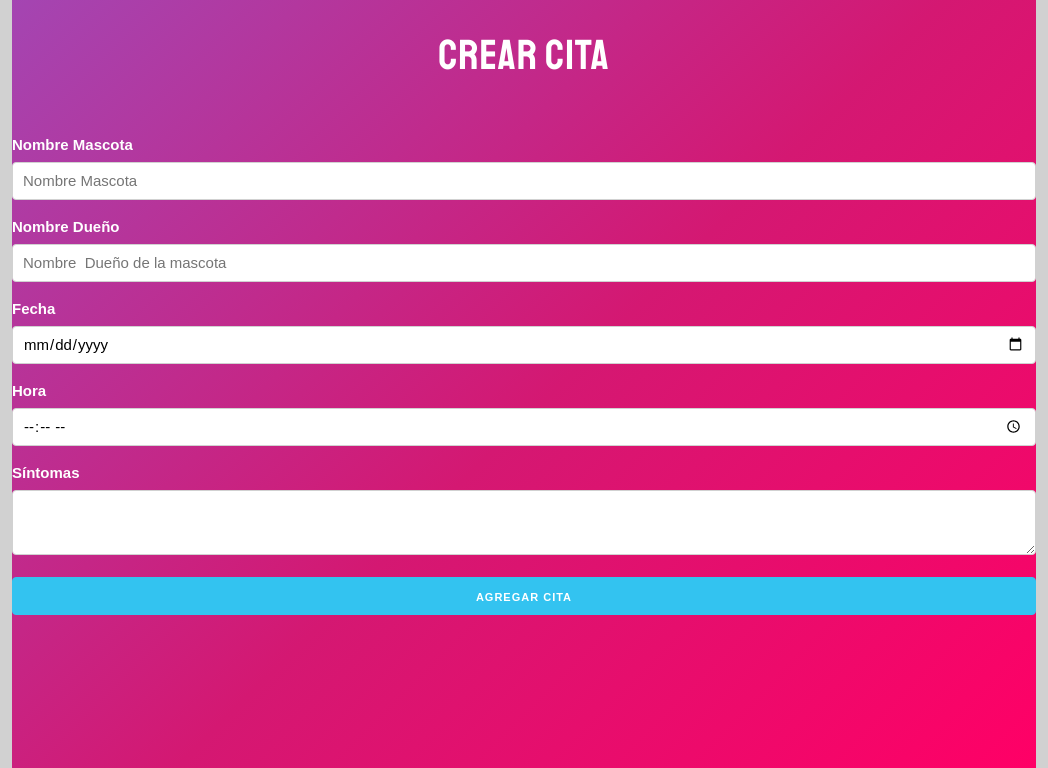
Test: <Formulario /> Pruebas con funciones y validaciones de formulario
The image size is (1048, 768).
# Simulo el clic
Click the button with test id "btn-submit".
click(524, 596)  # box [12,576,1036,614]
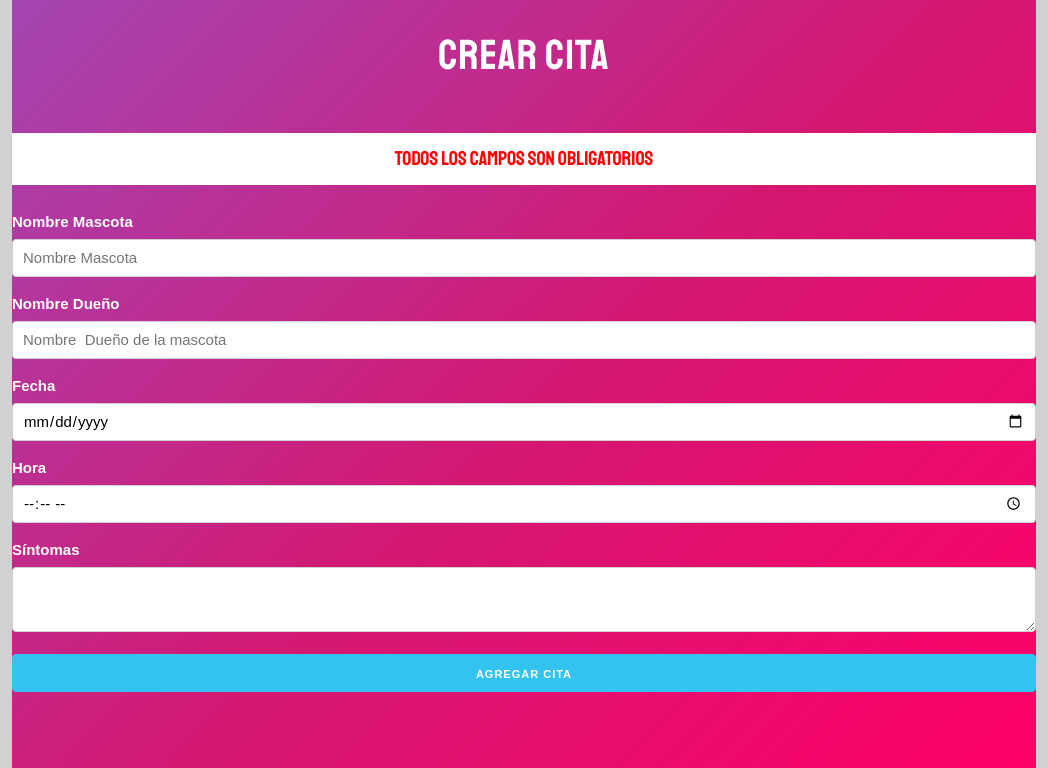
Expected: the text with test id "alerta" reads "Todos los campos son obligatorios", [395,146,653,170]
Expected: the text "Todos los campos son obligatorios" is shown, [12,132,1036,184]
